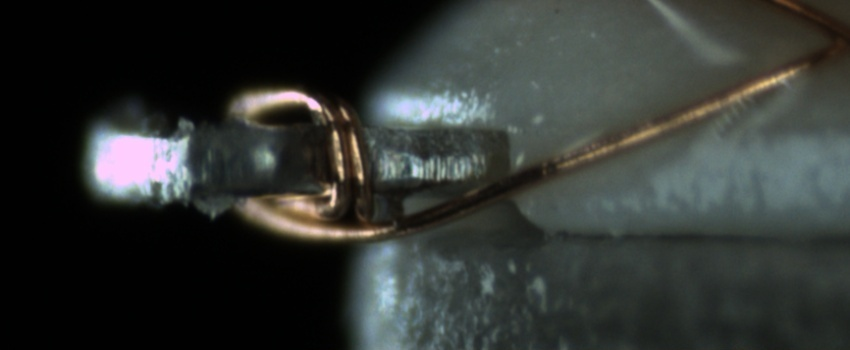CL: (801, 7, 849, 66)
TE: (222, 71, 378, 218)
